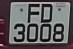0: (26, 22, 41, 45), (39, 22, 53, 43)
3: (11, 22, 27, 45)
8: (52, 21, 66, 44)
D: (41, 3, 55, 23)
F: (26, 3, 43, 23)
